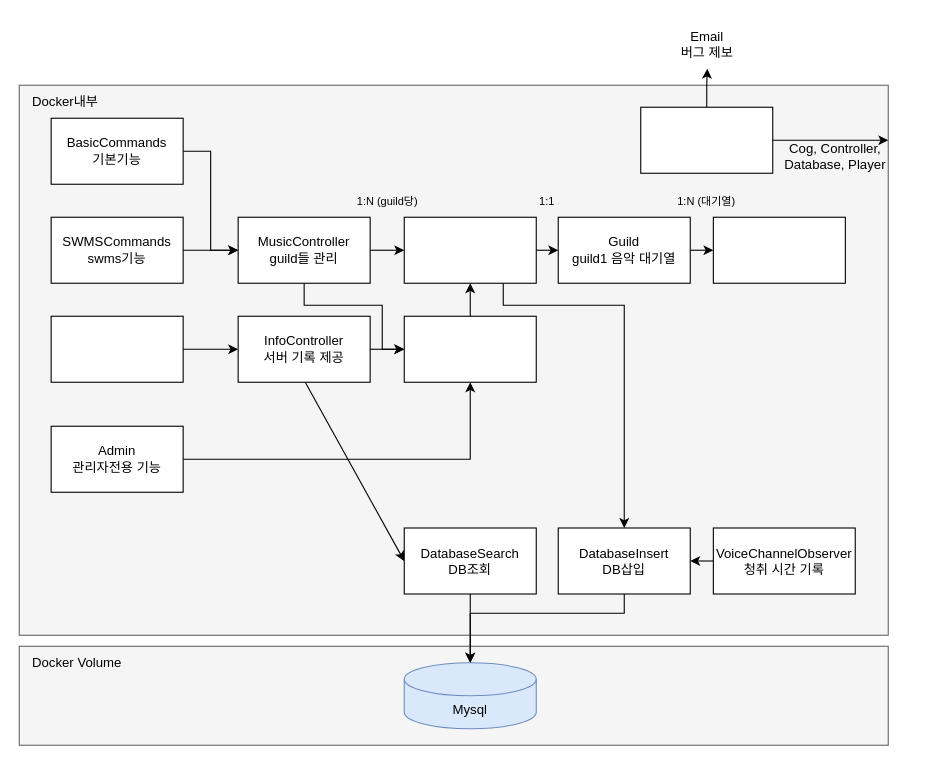
The diagram is 926 pixels wide and 765 high, and some of its shapes have lost their labels. Here are the shapes that lost their labels. From the top down, the centre of each, then its label:
At pixel 706 139: "StateChecker ErrorController".
At pixel 469 249: "MusicPlayer guild의 음악 관리".
At pixel 778 249: "Song 노래 데이터".
At pixel 116 348: "InfoCommands info기능".
At pixel 469 348: "Form UI + Action".
